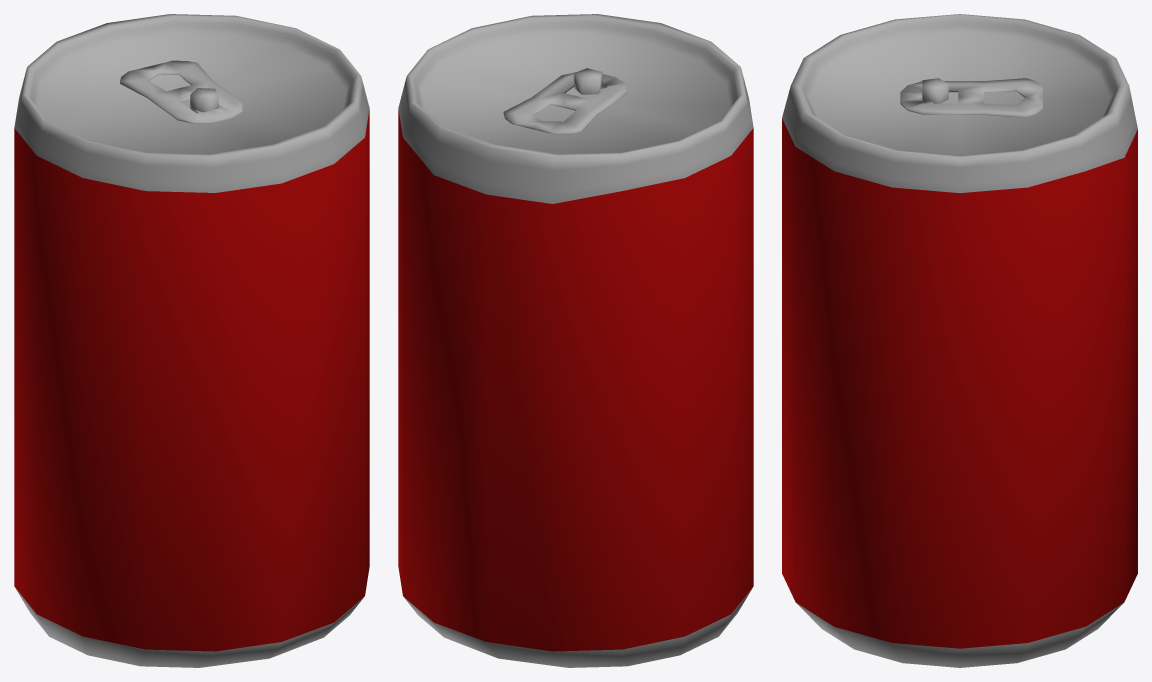
File: can.fbx
The picture shows the model from 3 angles, left to right: view 1: azimuth 30°, elevation 25°; view 2: azimuth 150°, elevation 25°; view 3: azimuth 270°, elevation 25°; orthographic projection.
Parts seen in each view (by area): view 1: Blender_Can:Mesh; view 2: Blender_Can:Mesh; view 3: Blender_Can:Mesh.
Part boxes in pixels (x1,y1,x2,y2): Blender_Can:Mesh: (14, 14, 369, 667); Blender_Can:Mesh: (398, 14, 753, 667); Blender_Can:Mesh: (782, 14, 1137, 667).
Bounding box in the file's own units: 8.14 × 12.98 × 8.14.
